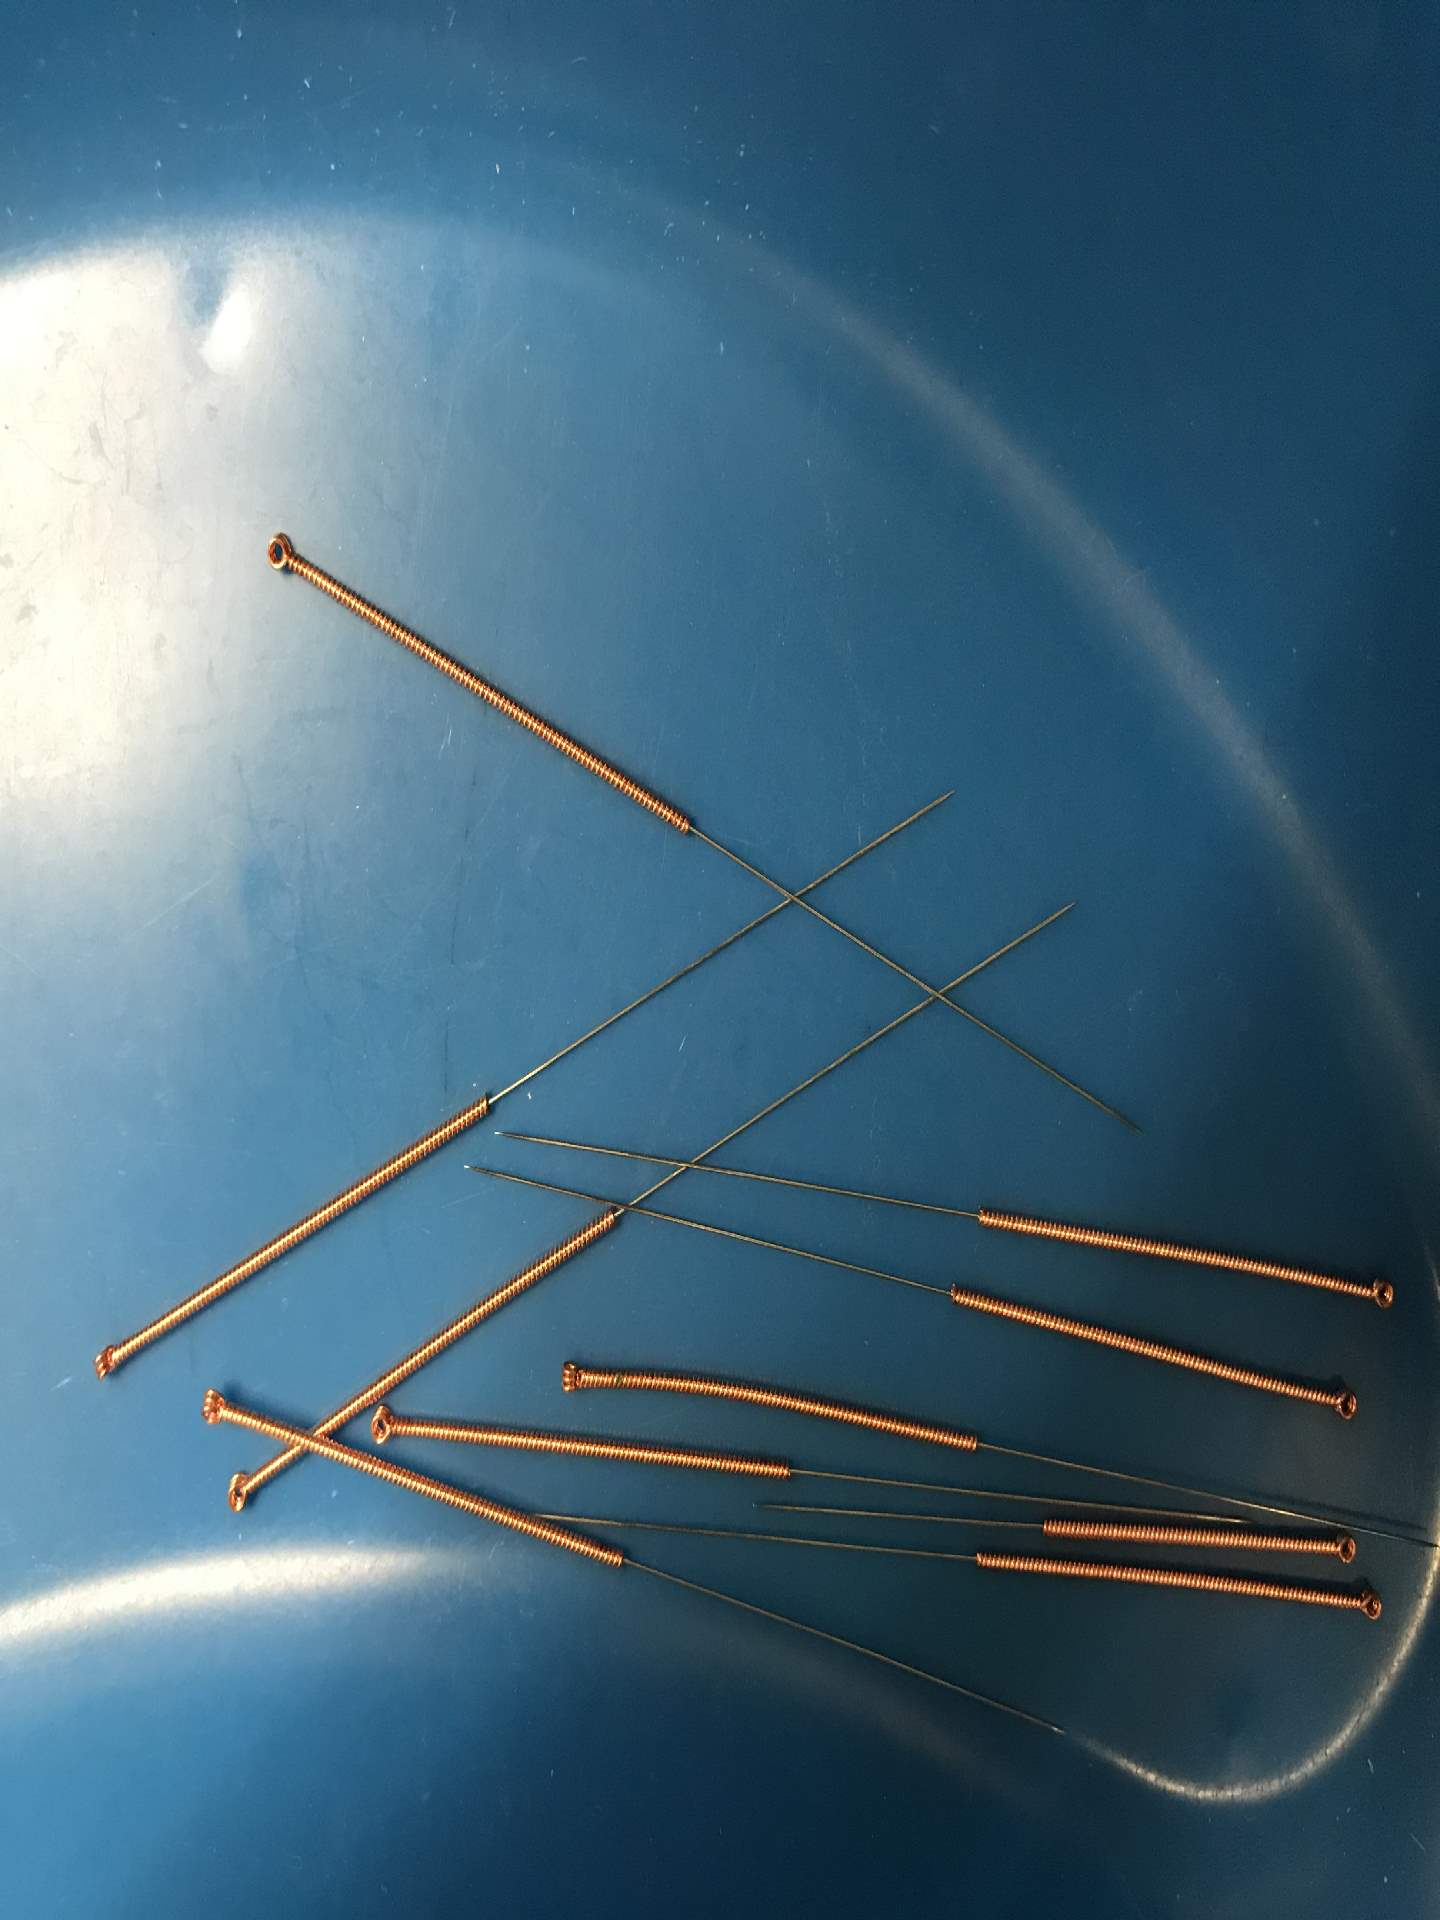needle: (251, 525, 318, 588), (210, 1462, 272, 1524), (183, 1377, 244, 1439), (546, 1350, 599, 1411), (76, 1336, 135, 1389), (1354, 1268, 1405, 1321), (1321, 1379, 1367, 1435), (1346, 1581, 1395, 1634), (365, 1401, 410, 1454), (1322, 1522, 1366, 1575)
